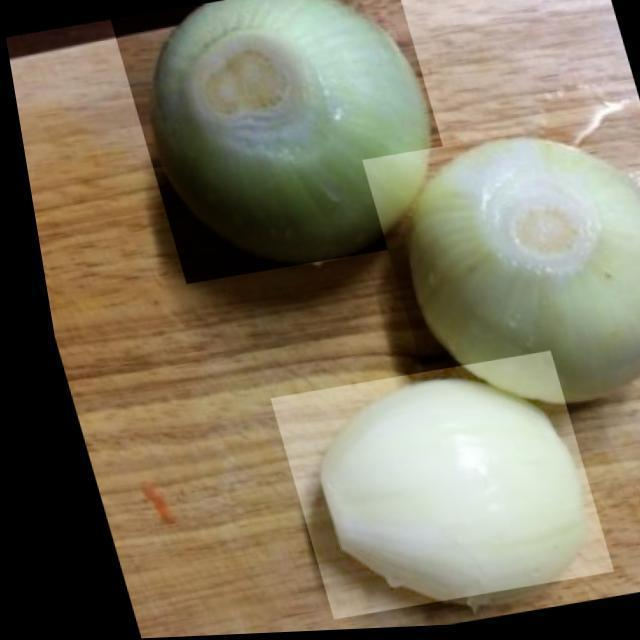Onion: (106, 0, 463, 285), (351, 117, 640, 440), (252, 354, 598, 622)
